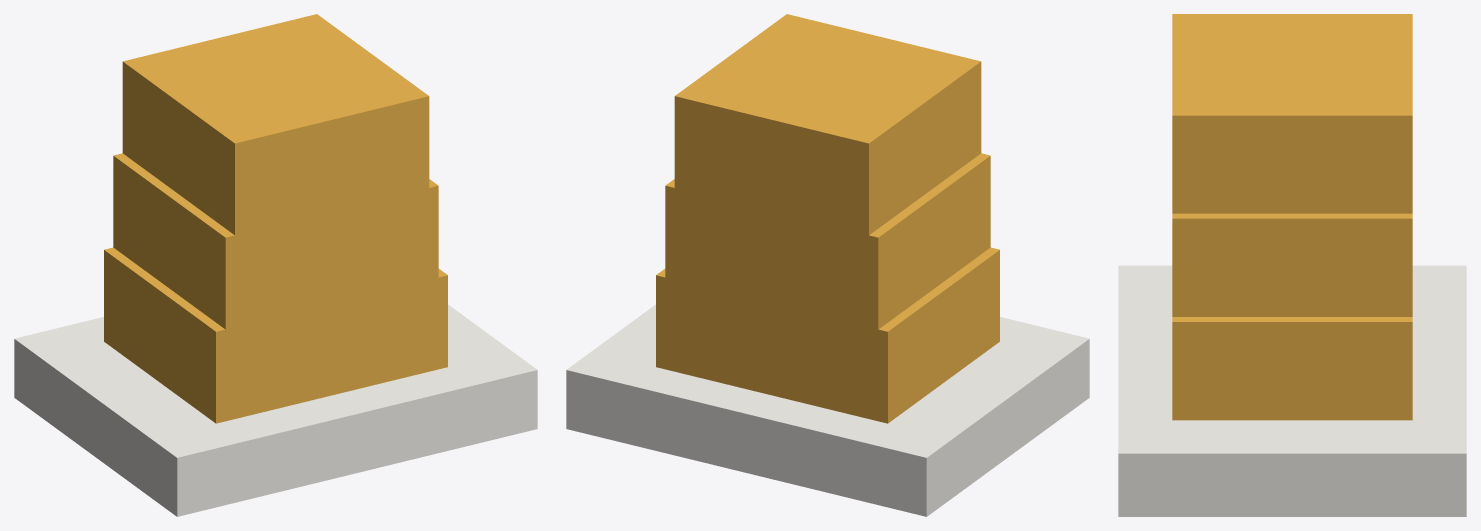
Rendered from kitchen_table-lv3.glb.
The picture shows the model from 3 angles, left to right: view 1: azimuth 30°, elevation 25°; view 2: azimuth 150°, elevation 25°; view 3: azimuth 270°, elevation 25°; orthographic projection. The views are drawn at different scales.
Visible parts, largest first — view 1: Base, Level3, Level1, Level2; view 2: Base, Level3, Level1, Level2; view 3: Base, Level3, Level1, Level2.
Boxes of the visible parts, x1,y1,x2,y2 form: Base: (14, 304, 537, 516); Level3: (122, 14, 429, 235); Level1: (104, 247, 447, 423); Level2: (113, 153, 438, 329); Base: (566, 304, 1089, 516); Level3: (674, 14, 981, 235); Level1: (656, 247, 999, 423); Level2: (665, 153, 990, 329); Base: (1118, 265, 1466, 516); Level3: (1172, 14, 1412, 213); Level1: (1172, 317, 1412, 420); Level2: (1172, 213, 1412, 316).
Size of the model in its own units: 1.15 by 1.02 by 0.9.
